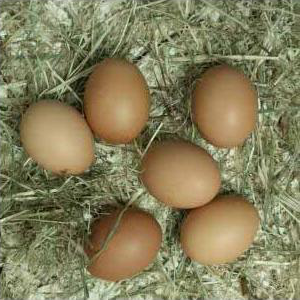egg: (175, 193, 260, 268), (139, 139, 223, 210), (83, 57, 151, 144), (18, 100, 96, 175), (192, 64, 259, 148), (86, 209, 163, 281)
